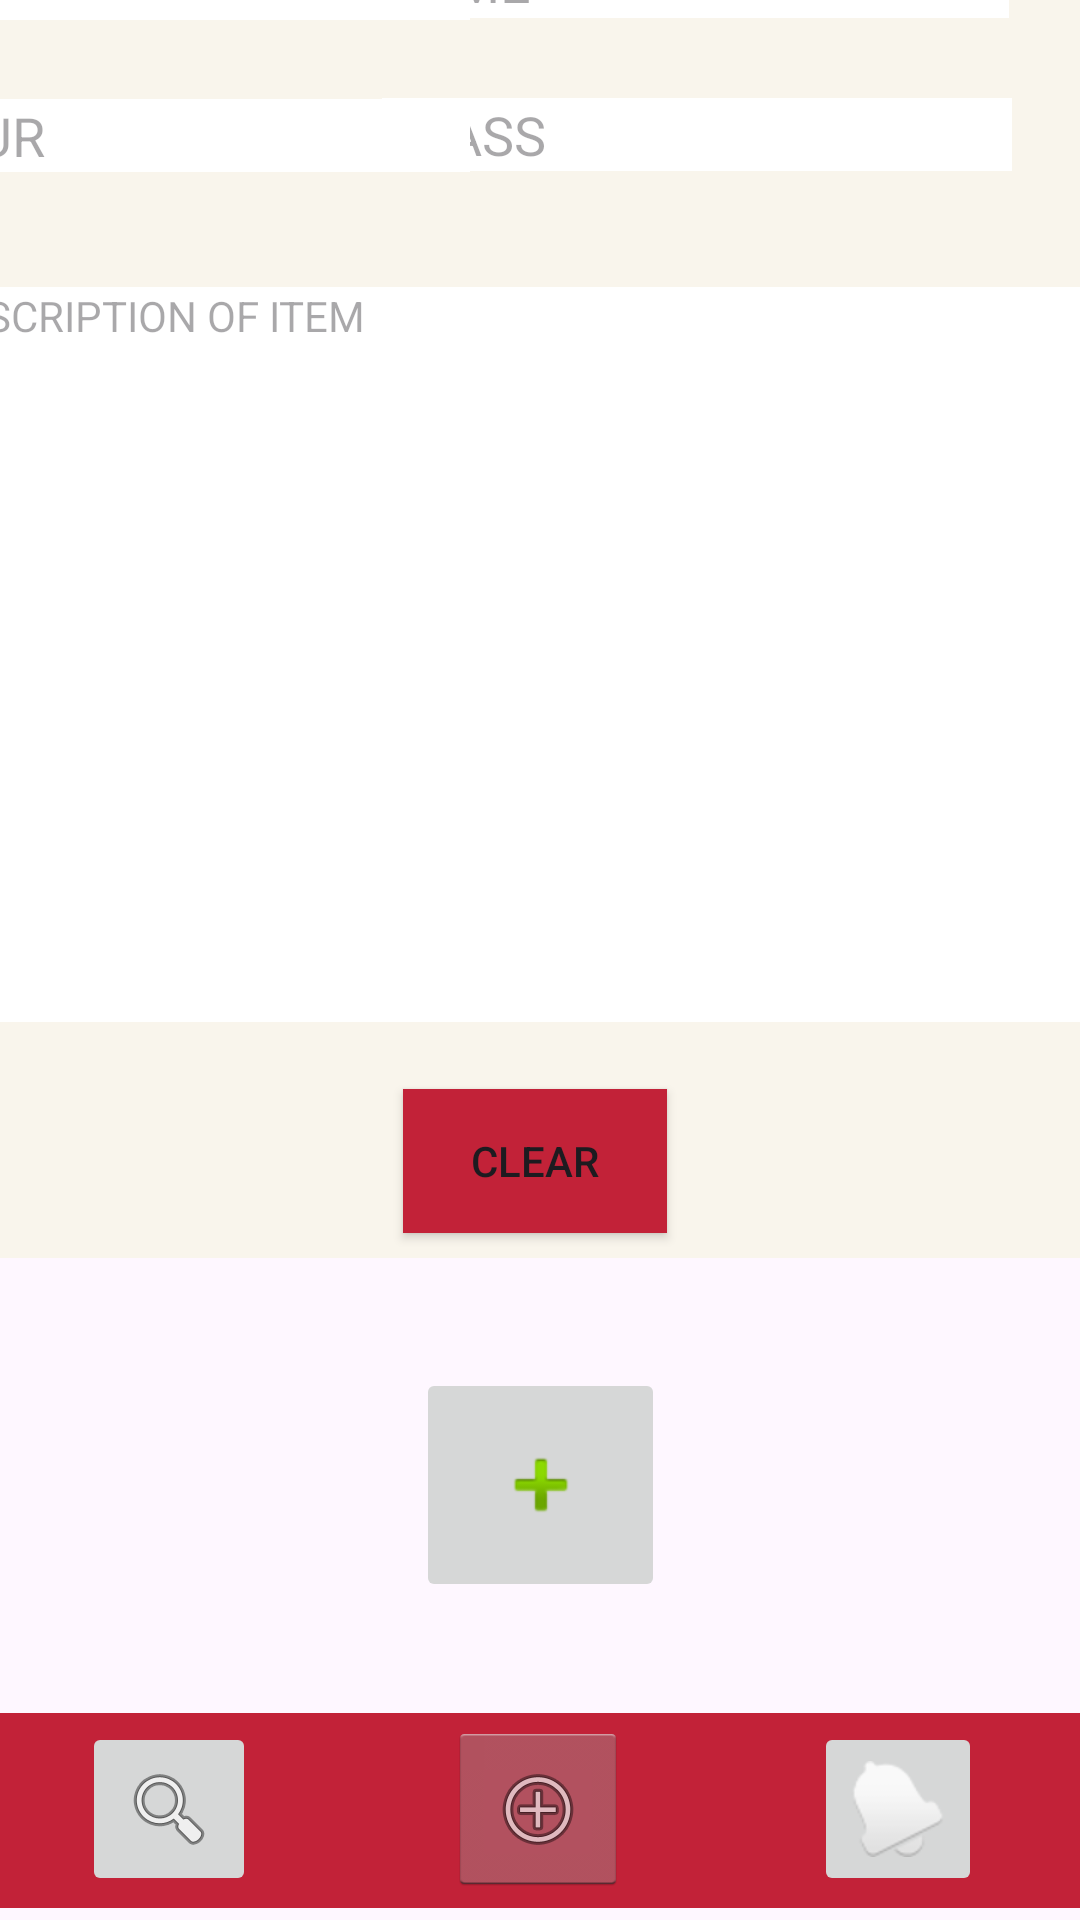

Point at icon controls on the screen. Image size 1080 × 1920, points as (x,y).
popup reminder: (898,1809)
search: (169,1809)
